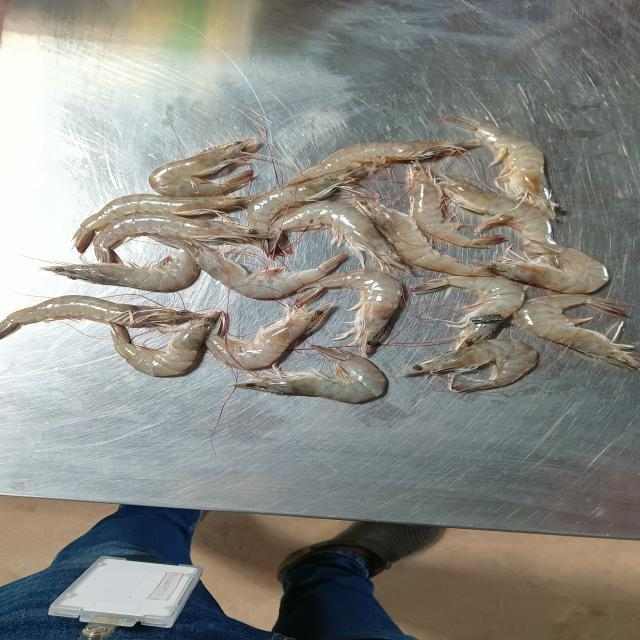shrimp: (153, 235, 348, 300), (443, 115, 556, 219), (73, 194, 255, 252), (359, 200, 489, 276), (272, 201, 410, 271), (514, 294, 640, 369), (294, 270, 403, 355), (235, 345, 387, 404), (286, 139, 480, 185), (0, 295, 201, 339), (246, 166, 374, 235), (206, 302, 332, 371), (407, 162, 505, 249), (410, 276, 525, 350), (434, 174, 553, 244), (93, 214, 266, 262), (401, 339, 538, 392), (111, 311, 221, 376), (476, 241, 609, 294), (42, 250, 199, 292), (148, 138, 261, 196)
